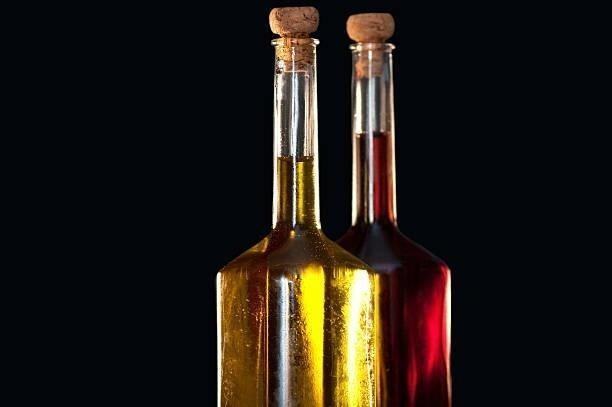bottle-glass: (207, 15, 392, 404), (320, 8, 456, 407)
